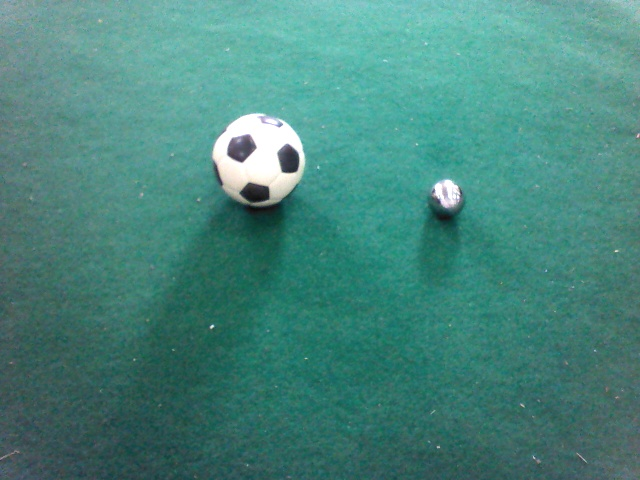ball: (333, 328, 475, 470)
